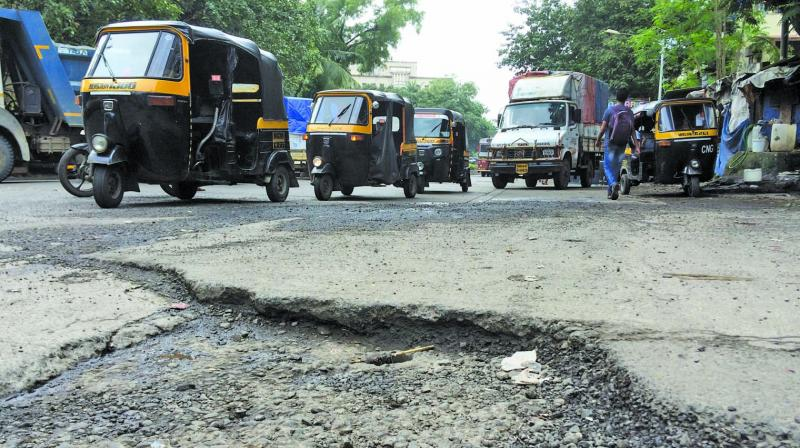pothole: (60, 261, 672, 442)
